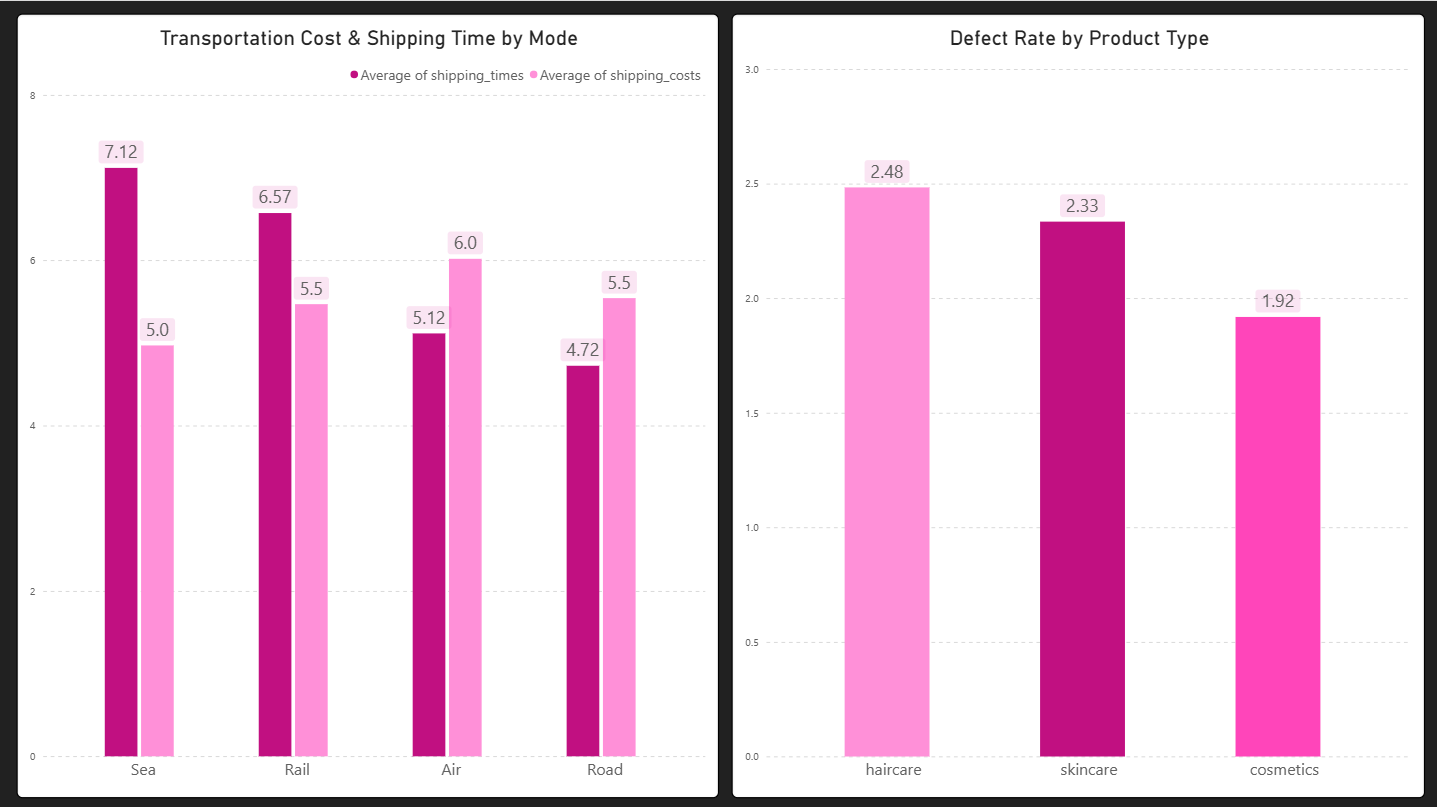

What the dashboard file says about the page in this screenshot:
{"tool":"powerbi","page":{"name":"Logistics & Quality Performance","canvas":[1920,1080],"ordinal":2},"visuals":[{"type":"clusteredColumnChart","title":"Transportation Cost & Shipping Time by Mode","fields":{"Category":["public supply_chain_raw.transportation_modes"],"Y":["Avg(public supply_chain_raw.shipping_times)","Avg(public supply_chain_raw.shipping_costs)"]},"box":[0,223.8,880.1,856.2],"z":0},{"type":"clusteredColumnChart","title":"Defect Rate by Product Type","fields":{"Category":["public supply_chain_raw.product_type"],"Y":["Avg(public supply_chain_raw.defect_rates)"]},"box":[1040.3,224.6,880.1,856.2],"z":1}]}

Visuals, with their boxes in screenshot pixels (x1, y1, x2, y2), scaled from the page's 1920x1080 canvas onto the 1437x807 screenshot:
"Transportation Cost & Shipping Time by Mode" clusteredColumnChart: [left=0, top=167, right=659, bottom=806]
"Defect Rate by Product Type" clusteredColumnChart: [left=779, top=168, right=1436, bottom=806]
